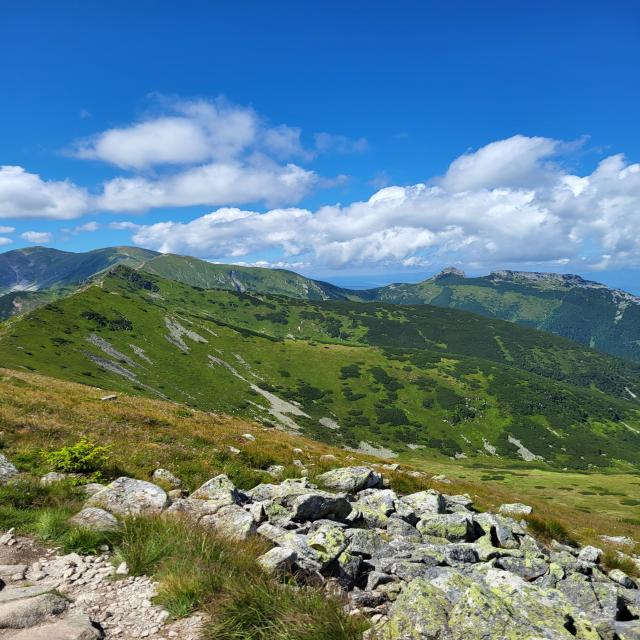Giewont: (382, 231, 518, 306)
Kopa Kondracka: (119, 225, 228, 286)
Krzesanica: (1, 220, 82, 278)
Malolaczniak: (69, 218, 180, 276)
